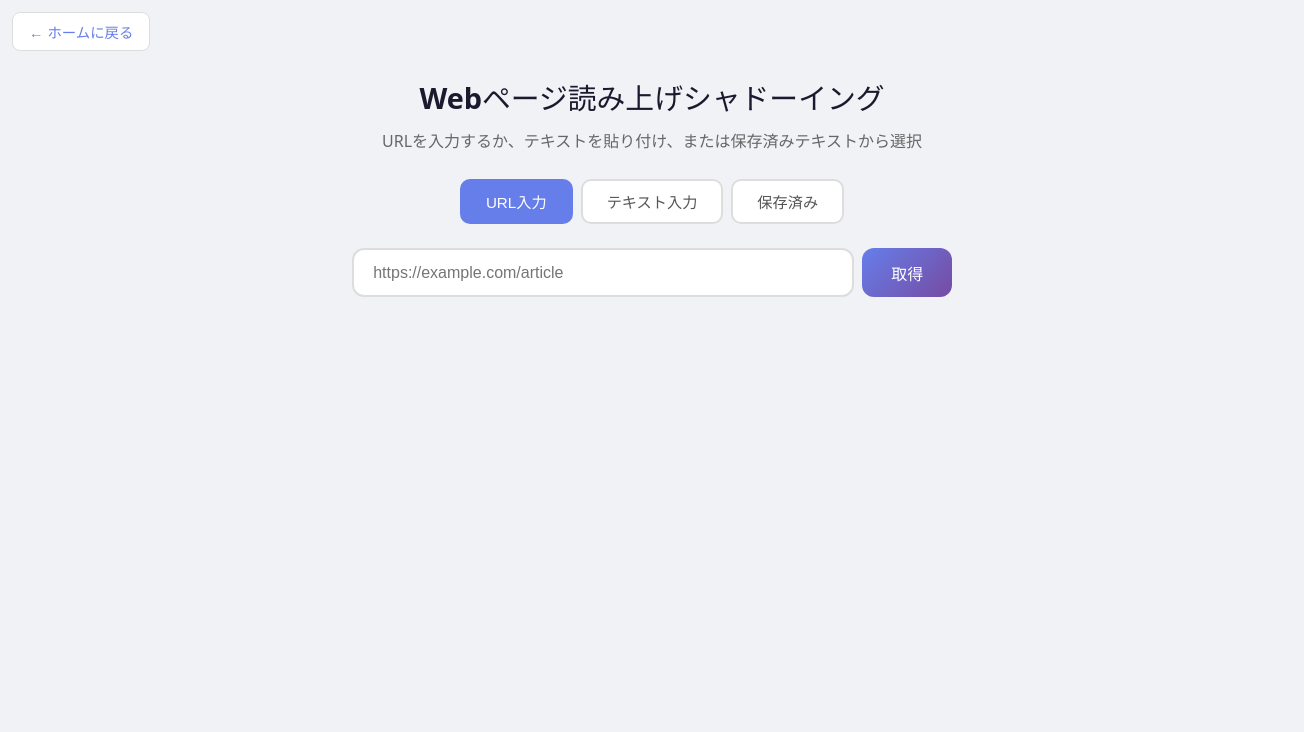
Test case: TextReaderPage › shows keyboard shortcuts info after loading text
Click the button "テキスト入力" at {"x": 652, "y": 201}, box [581,179,723,224]
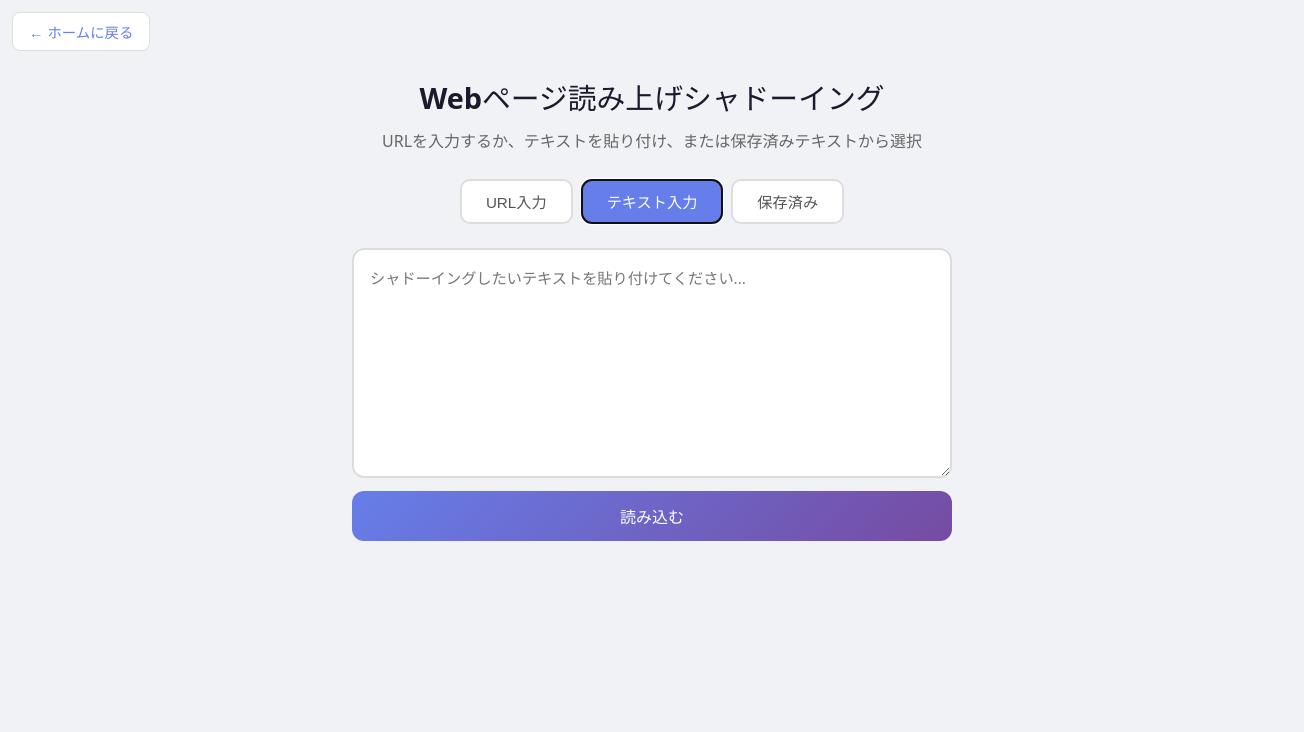
Type "Test sentence." into the text box with placeholder "シャドーイングしたいテキストを貼り付けてください..." at {"x": 652, "y": 363}, box [352,248,952,478]
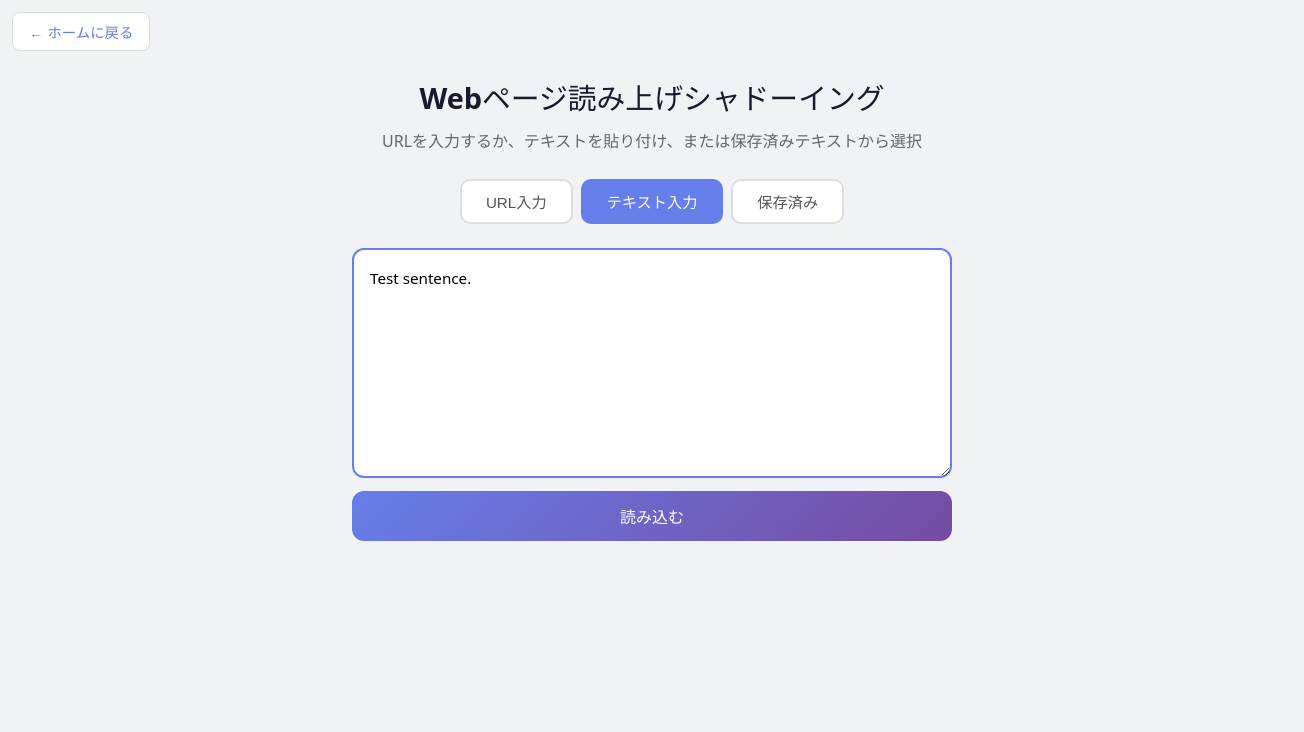
Click the button "読み込む" at {"x": 652, "y": 516}, box [352,491,952,541]
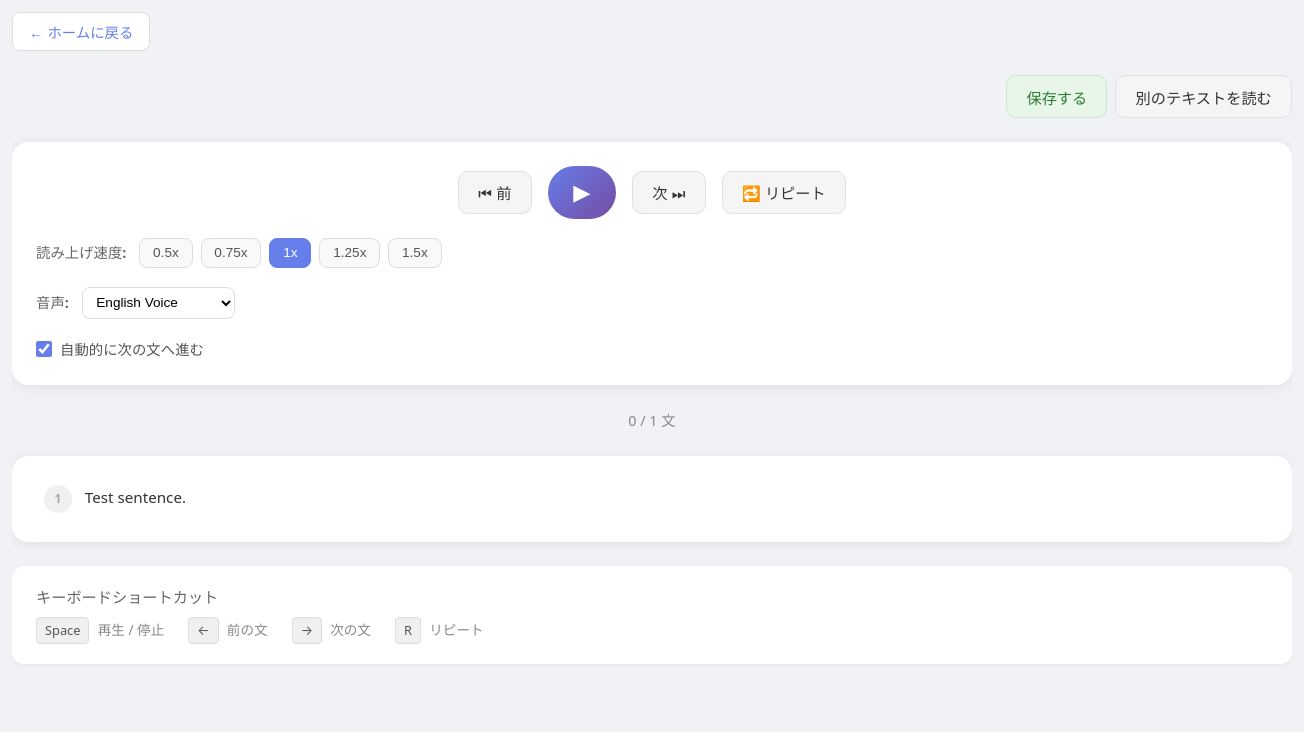
Now the heading "キーボードショートカット" is shown, box [36,587,218,607]
